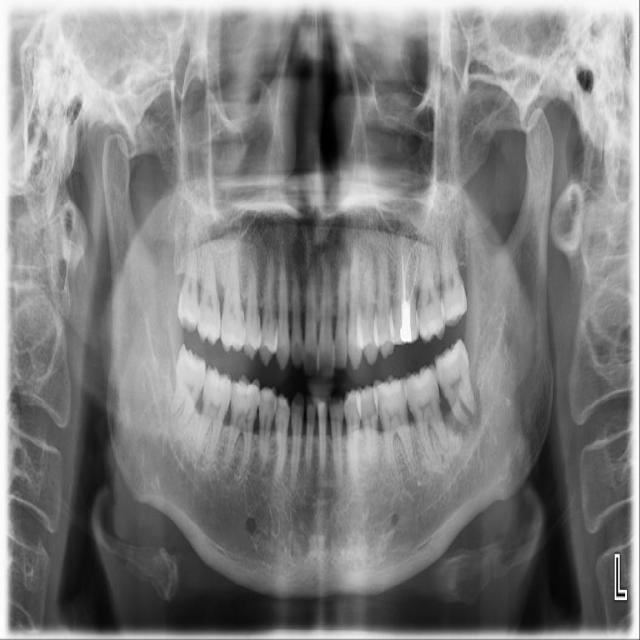Filling: (390, 307, 419, 345)
Periapical lesion: (442, 386, 490, 436), (424, 444, 440, 465), (233, 468, 247, 484)
Root Canal Treatment: (407, 256, 419, 302), (402, 256, 406, 304)
impacted tooth: (155, 346, 204, 434), (435, 342, 478, 421)
